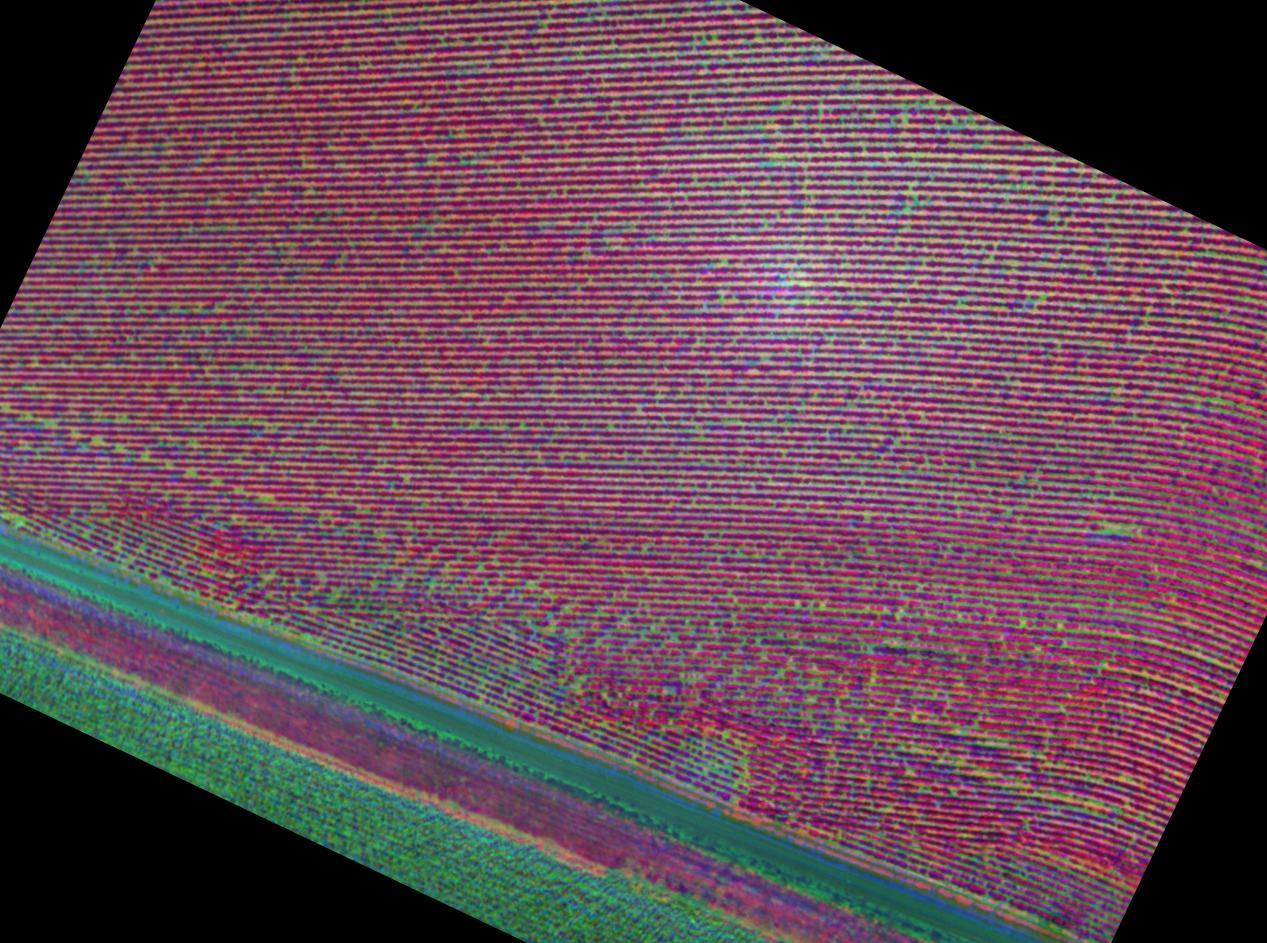dc: (572, 684, 577, 689), (528, 584, 533, 588), (85, 532, 89, 536), (565, 610, 569, 614), (1021, 623, 1025, 627), (821, 606, 825, 609), (249, 420, 252, 423)
